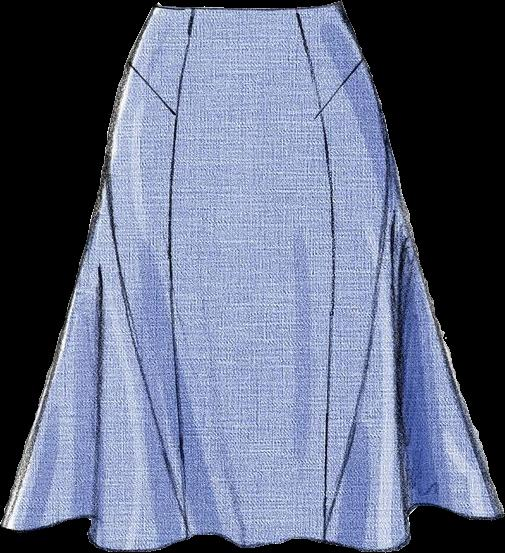Hemline: (0, 500, 504, 552)
Waistline: (151, 1, 344, 13)
